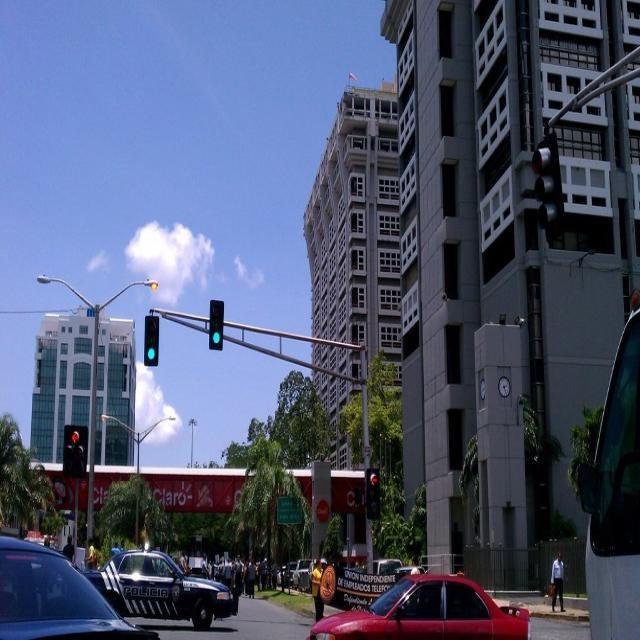traffic light: (209, 300, 224, 349), (367, 469, 380, 517), (145, 317, 158, 364)
